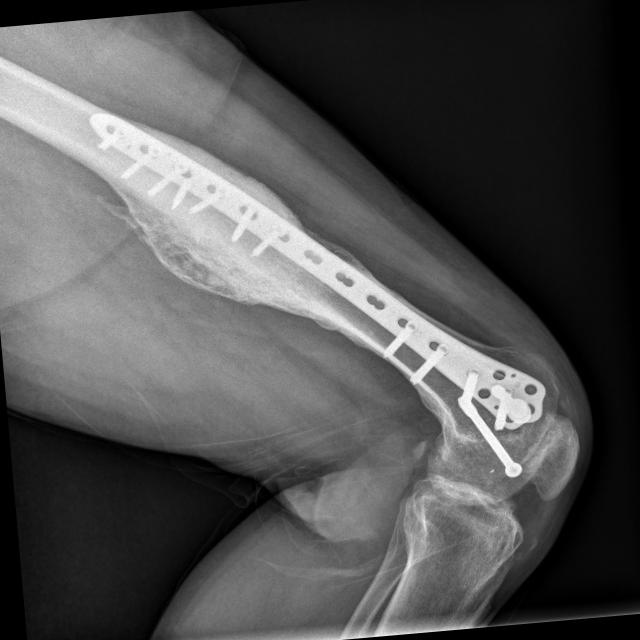Knee: (383, 346, 592, 561)
